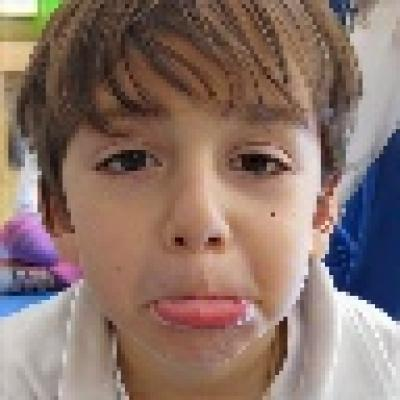sad: (52, 56, 320, 362)
